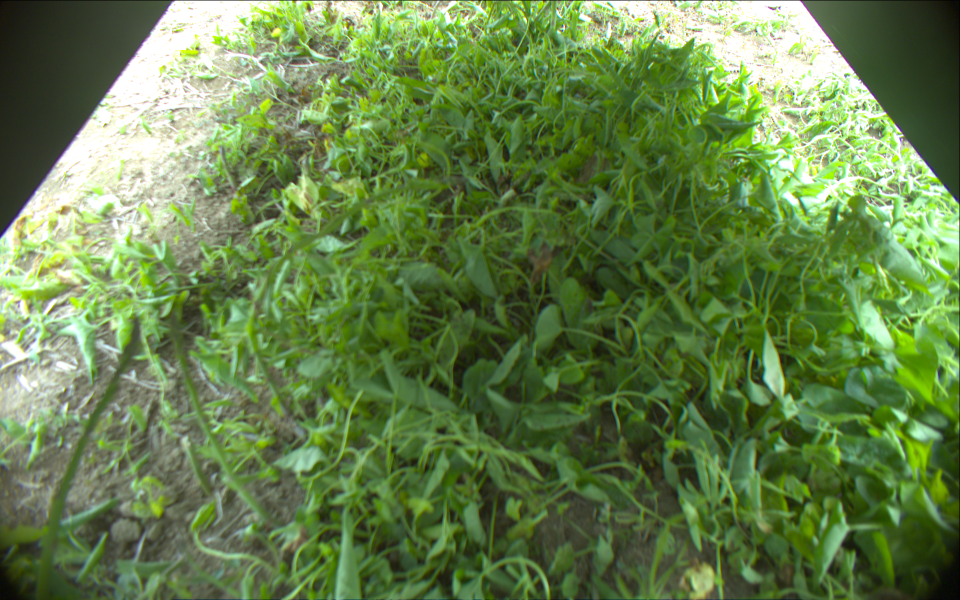aspa: (236, 176, 473, 419), (32, 318, 142, 600), (165, 312, 270, 529), (220, 147, 238, 188)
